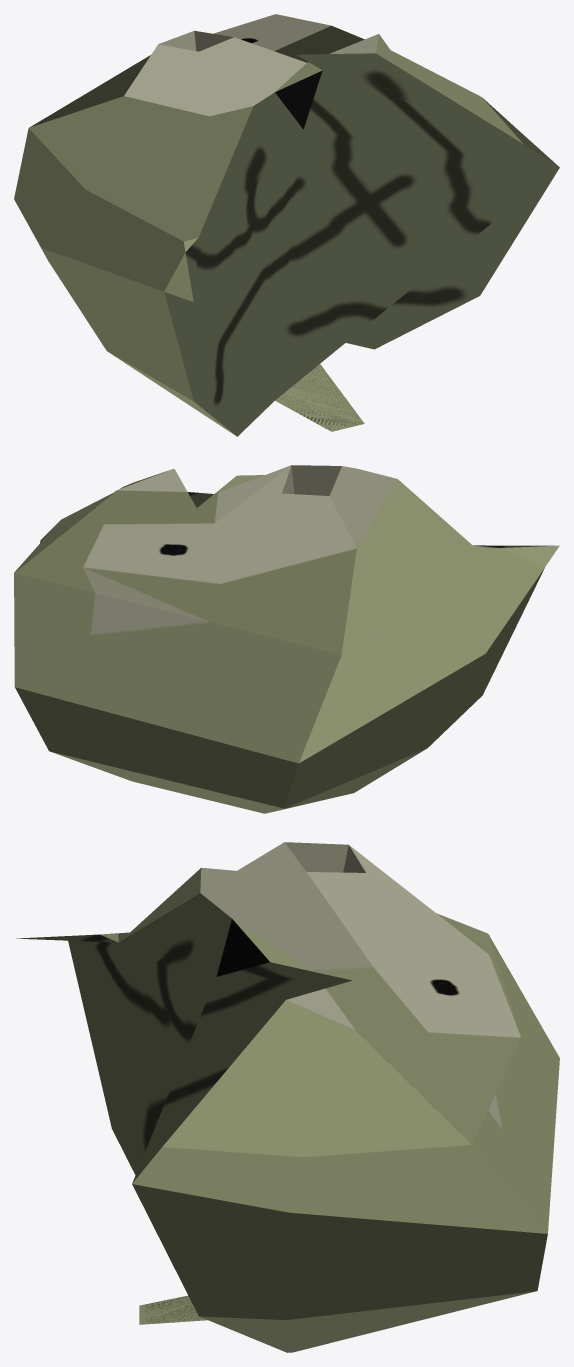
Rendered from kapotteFossil4.glb.
3 renders of one model, top to bottom at view 1: azimuth 30°, elevation 25°; view 2: azimuth 150°, elevation 25°; view 3: azimuth 270°, elevation 25°, orthographic. The views are drawn at different scales.
Visible parts, largest first — view 1: Plane; view 2: Plane; view 3: Plane.
Boxes of the visible parts, x1=… form: Plane: x1=14, y1=14, x2=559, y2=436; Plane: x1=14, y1=465, x2=559, y2=813; Plane: x1=16, y1=842, x2=559, y2=1352.
Size of the model in its own units: 2.08 by 1.48 by 1.74.
Materials: 1 (1 with a texture image).
